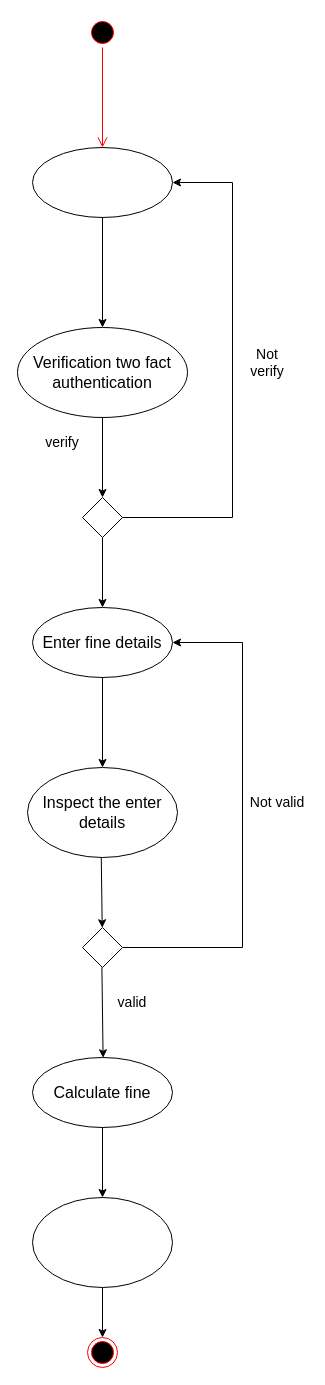
The diagram is 325 pixels wide and 1385 high, and some of its shapes have lost their labels. Each missing label, with the centre of its shape:
"Login" goes at [102,182].
"send message to driver" goes at [102,1242].
